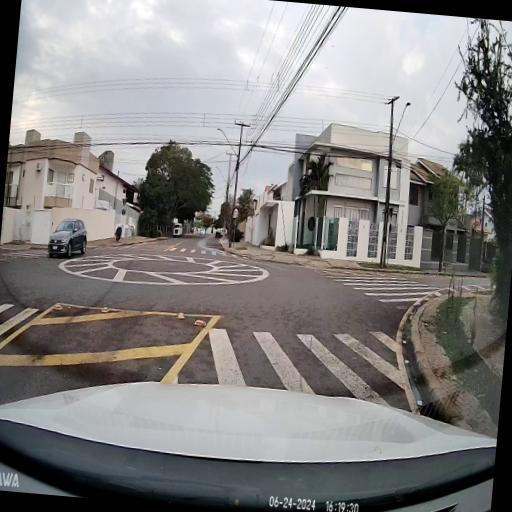R-19: (232, 209, 238, 217)
